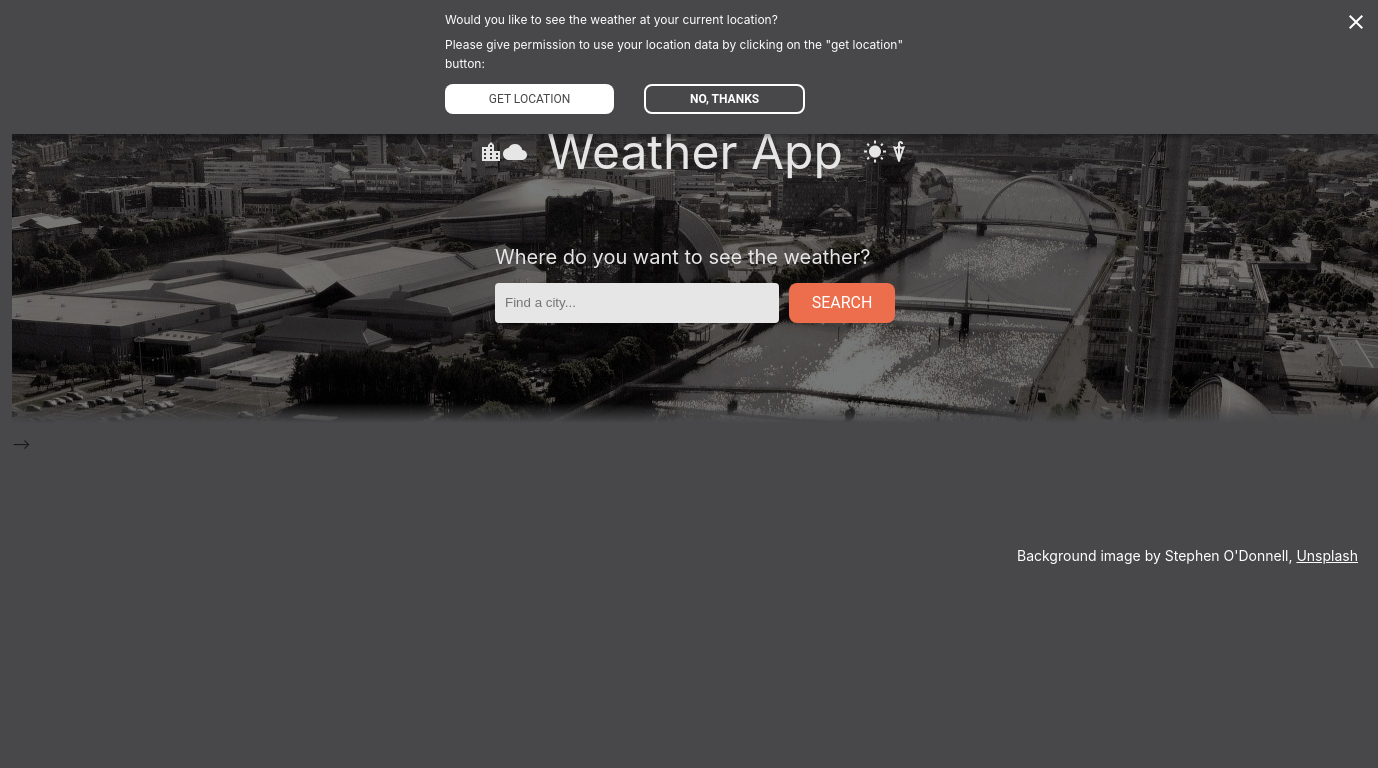
Scenario: Header Test › hides the request location box when the no thanks option is clicked
Click the button "No, thanks" at (725, 99), box [644, 84, 805, 114]
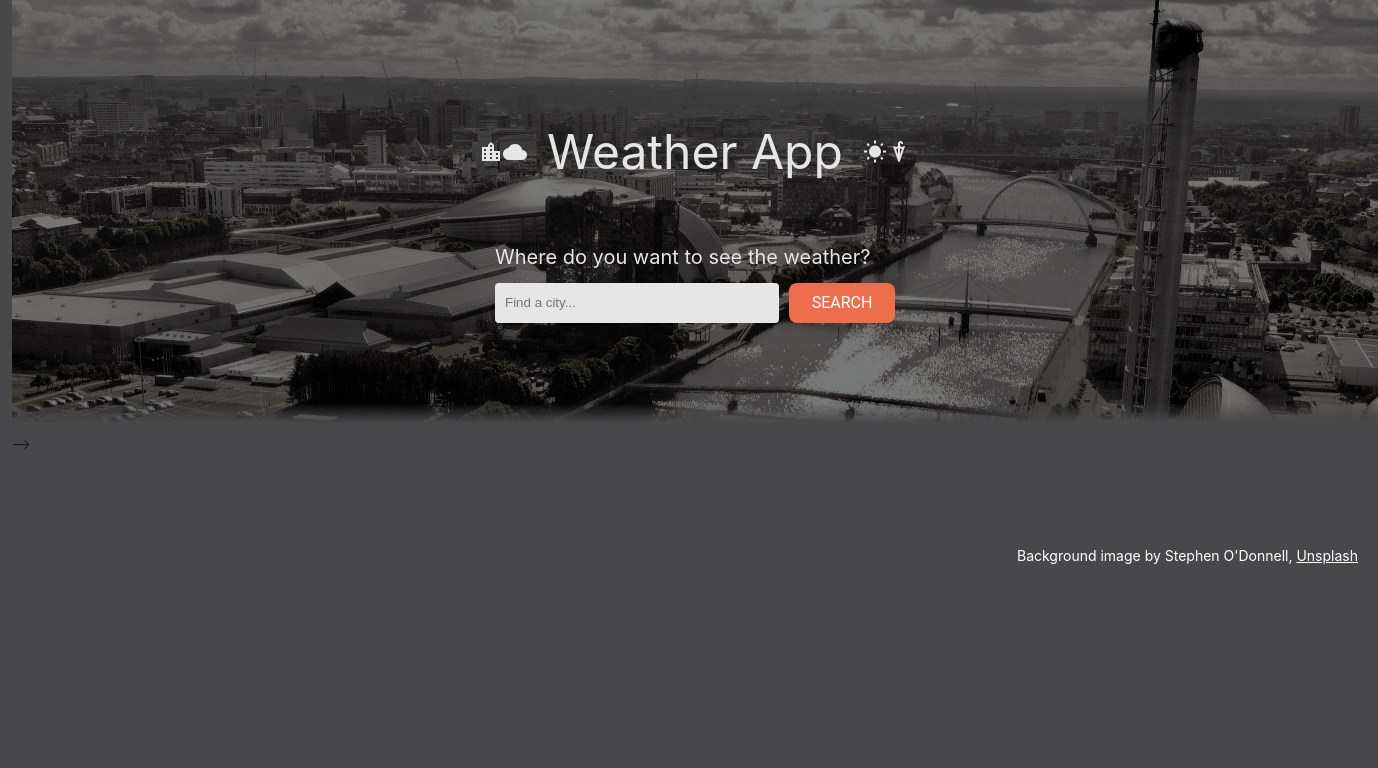
Expected: the element with class "request-location" is gone
Reload the page
Reload the page
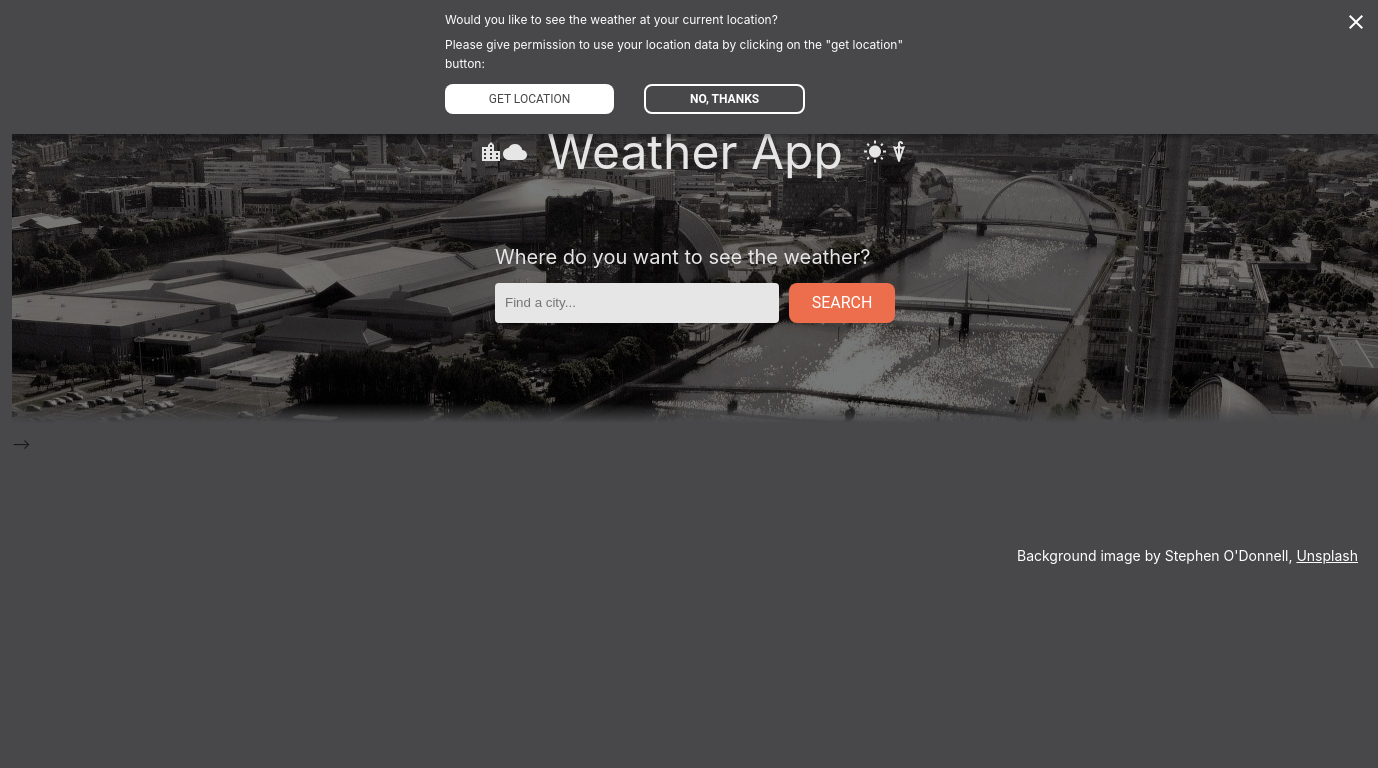
Expected: the element with class "request-location" is shown, [12, 0, 1377, 134]
